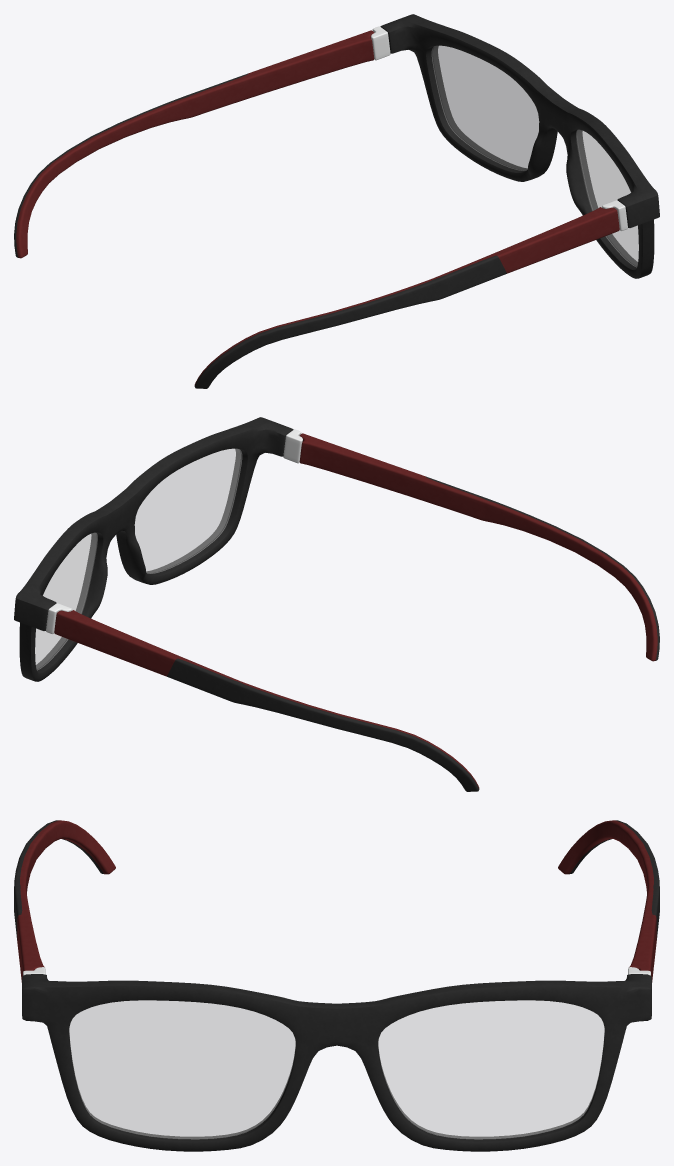
File: glasses.glb
3 renders of one model, top to bottom at view 1: azimuth 30°, elevation 25°; view 2: azimuth 150°, elevation 25°; view 3: azimuth 270°, elevation 25°, orthographic. The views are drawn at different scales.
Visible parts, largest first — view 1: Cube_6, Cube.002_3, Cube.003_4, Cube.004_5, Cube.001_2; view 2: Cube_6, Cube.002_3, Cube.003_4, Cube.004_5, Cube.001_2; view 3: Cube.003_4, Cube_6, Cube.002_3, Cube.004_5.
Part boxes in pixels (left/top/right/bottom): Cube_6: left=380, top=14, right=659, bottom=278; Cube.002_3: left=16, top=30, right=619, bottom=385; Cube.003_4: left=431, top=45, right=638, bottom=267; Cube.004_5: left=14, top=73, right=506, bottom=388; Cube.001_2: left=371, top=26, right=627, bottom=231; Cube_6: left=14, top=417, right=293, bottom=681; Cube.002_3: left=54, top=433, right=657, bottom=788; Cube.003_4: left=35, top=448, right=242, bottom=670; Cube.004_5: left=167, top=476, right=659, bottom=791; Cube.001_2: left=46, top=429, right=302, bottom=634; Cube.003_4: left=69, top=1000, right=604, bottom=1139; Cube_6: left=22, top=974, right=651, bottom=1151; Cube.002_3: left=17, top=820, right=656, bottom=982; Cube.004_5: left=14, top=820, right=659, bottom=940.
Size of the model in its own units: 6.57 by 1.69 by 6.21.
Materials: 4 (3 with a texture image).
